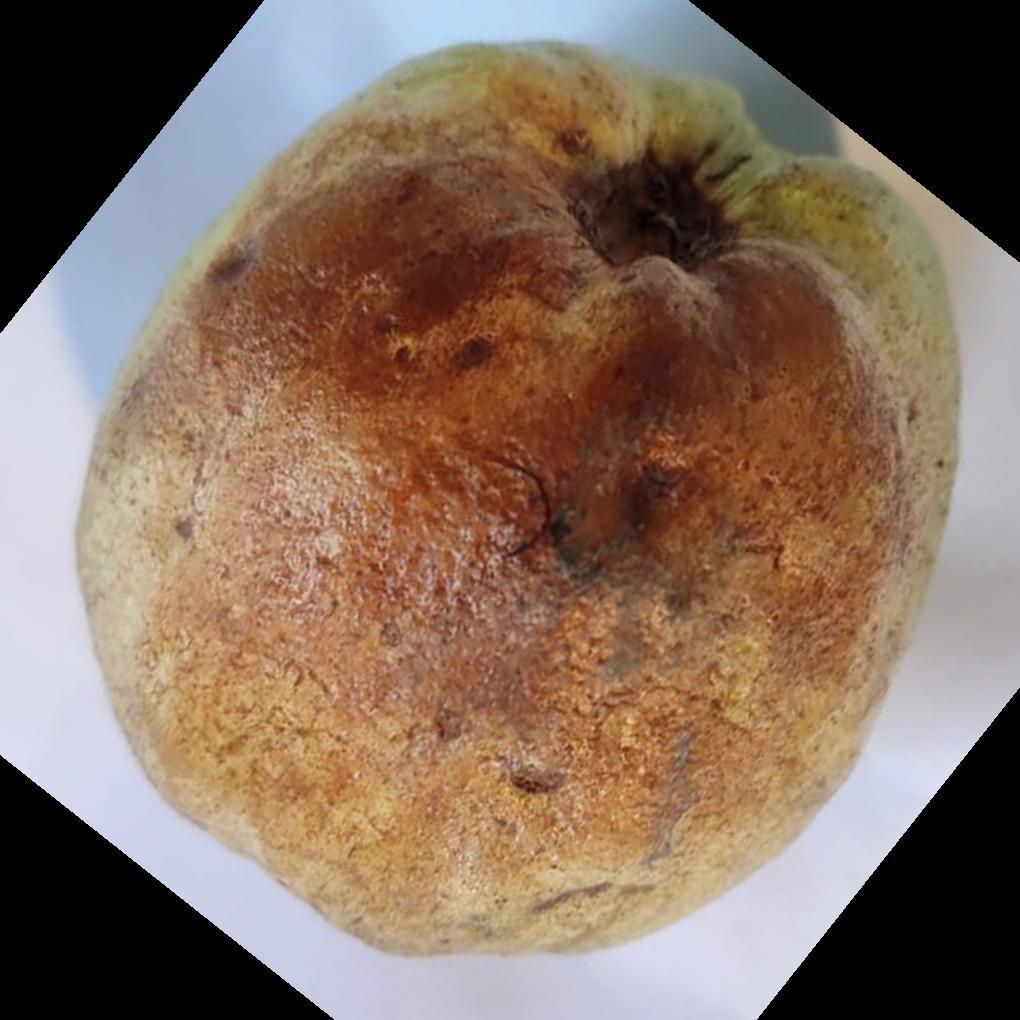FreshOrange: (71, 41, 964, 964)
